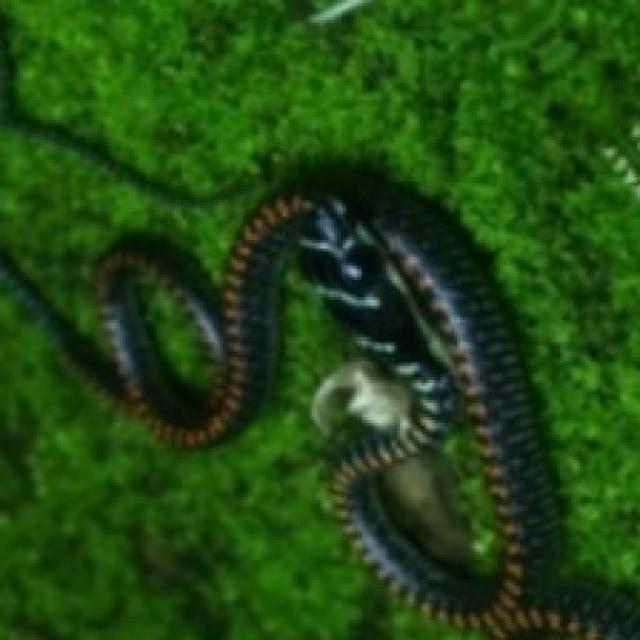paradise tree snake: (0, 0, 637, 629), (0, 266, 474, 637), (0, 269, 471, 637), (3, 169, 131, 254)
